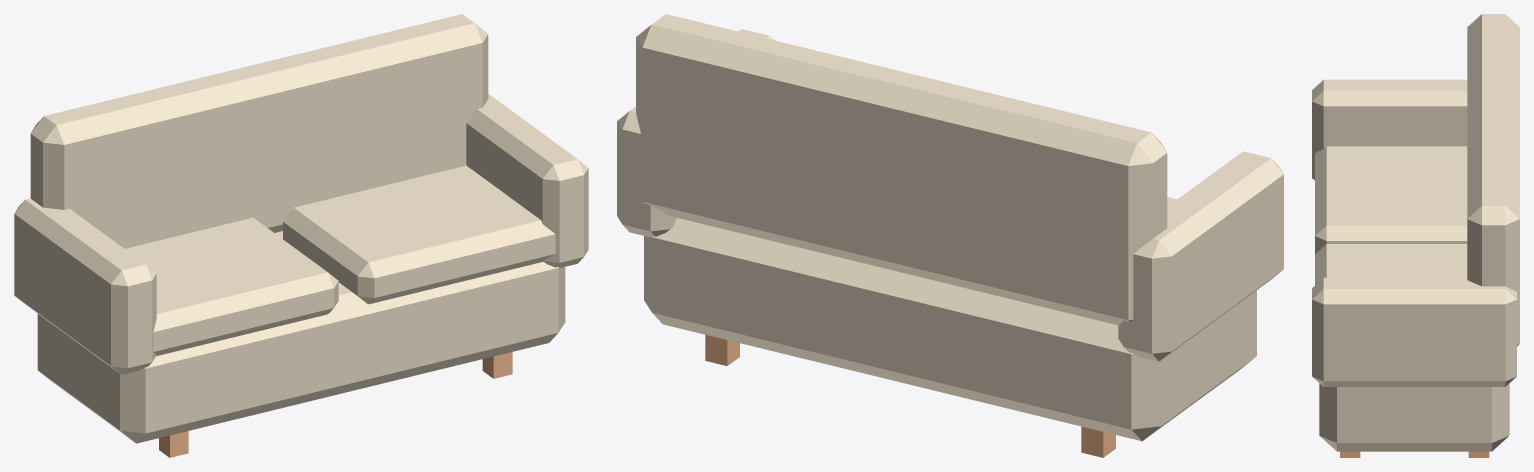
3 views of the same model, side by side, from view 1: azimuth 30°, elevation 25°; view 2: azimuth 150°, elevation 25°; view 3: azimuth 270°, elevation 25° (orthographic). The views are drawn at different scales.
Visible parts, largest first — view 1: Back, Base, Seat cushion.001, Seat cushion, Arm, Arm.001, Sofa leg.002, Sofa leg; view 2: Back, Base, Arm, Arm.001, Sofa leg.001, Sofa leg.003; view 3: Arm.001, Seat cushion, Back, Base, Arm, Seat cushion.001.
Part boxes in pixels (left/top/right/bottom): Back: left=30, top=14, right=488, bottom=248; Base: left=37, top=231, right=565, bottom=443; Seat cushion.001: left=283, top=165, right=555, bottom=304; Seat cushion: left=125, top=217, right=338, bottom=355; Arm: left=14, top=198, right=156, bottom=374; Arm.001: left=466, top=94, right=588, bottom=267; Sofa leg.002: left=482, top=352, right=512, bottom=378; Sofa leg: left=159, top=431, right=188, bottom=457; Back: left=636, top=14, right=1167, bottom=325; Base: left=644, top=218, right=1256, bottom=441; Arm: left=1118, top=151, right=1283, bottom=361; Arm.001: left=617, top=29, right=773, bottom=237; Sofa leg.001: left=1081, top=426, right=1115, bottom=457; Sofa leg.003: left=705, top=335, right=739, bottom=365; Arm.001: left=1312, top=277, right=1516, bottom=386; Seat cushion: left=1315, top=146, right=1467, bottom=253; Back: left=1467, top=14, right=1519, bottom=346; Base: left=1319, top=383, right=1509, bottom=451; Arm: left=1312, top=79, right=1467, bottom=180; Seat cushion.001: left=1315, top=244, right=1467, bottom=285.
Bounding box in the file's own units: 1.77 × 1.02 × 0.71.
Materials: 1 (1 with a texture image).
